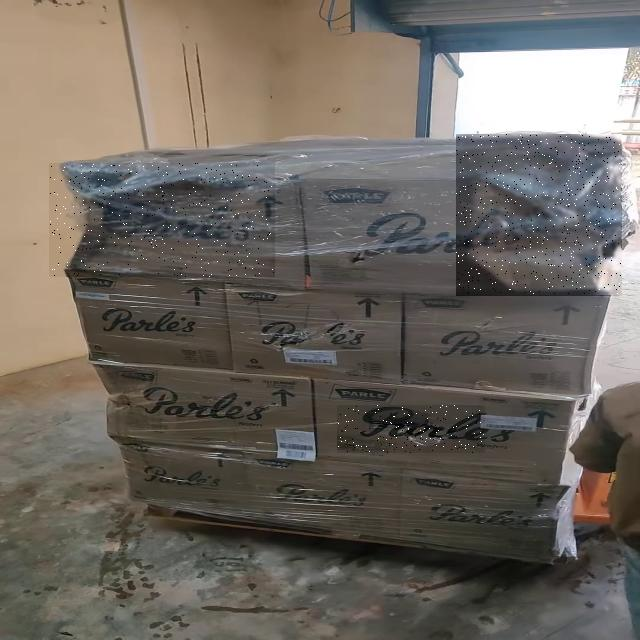squeeze: (456, 135, 621, 294), (51, 163, 275, 277)
tear: (338, 405, 484, 453)
